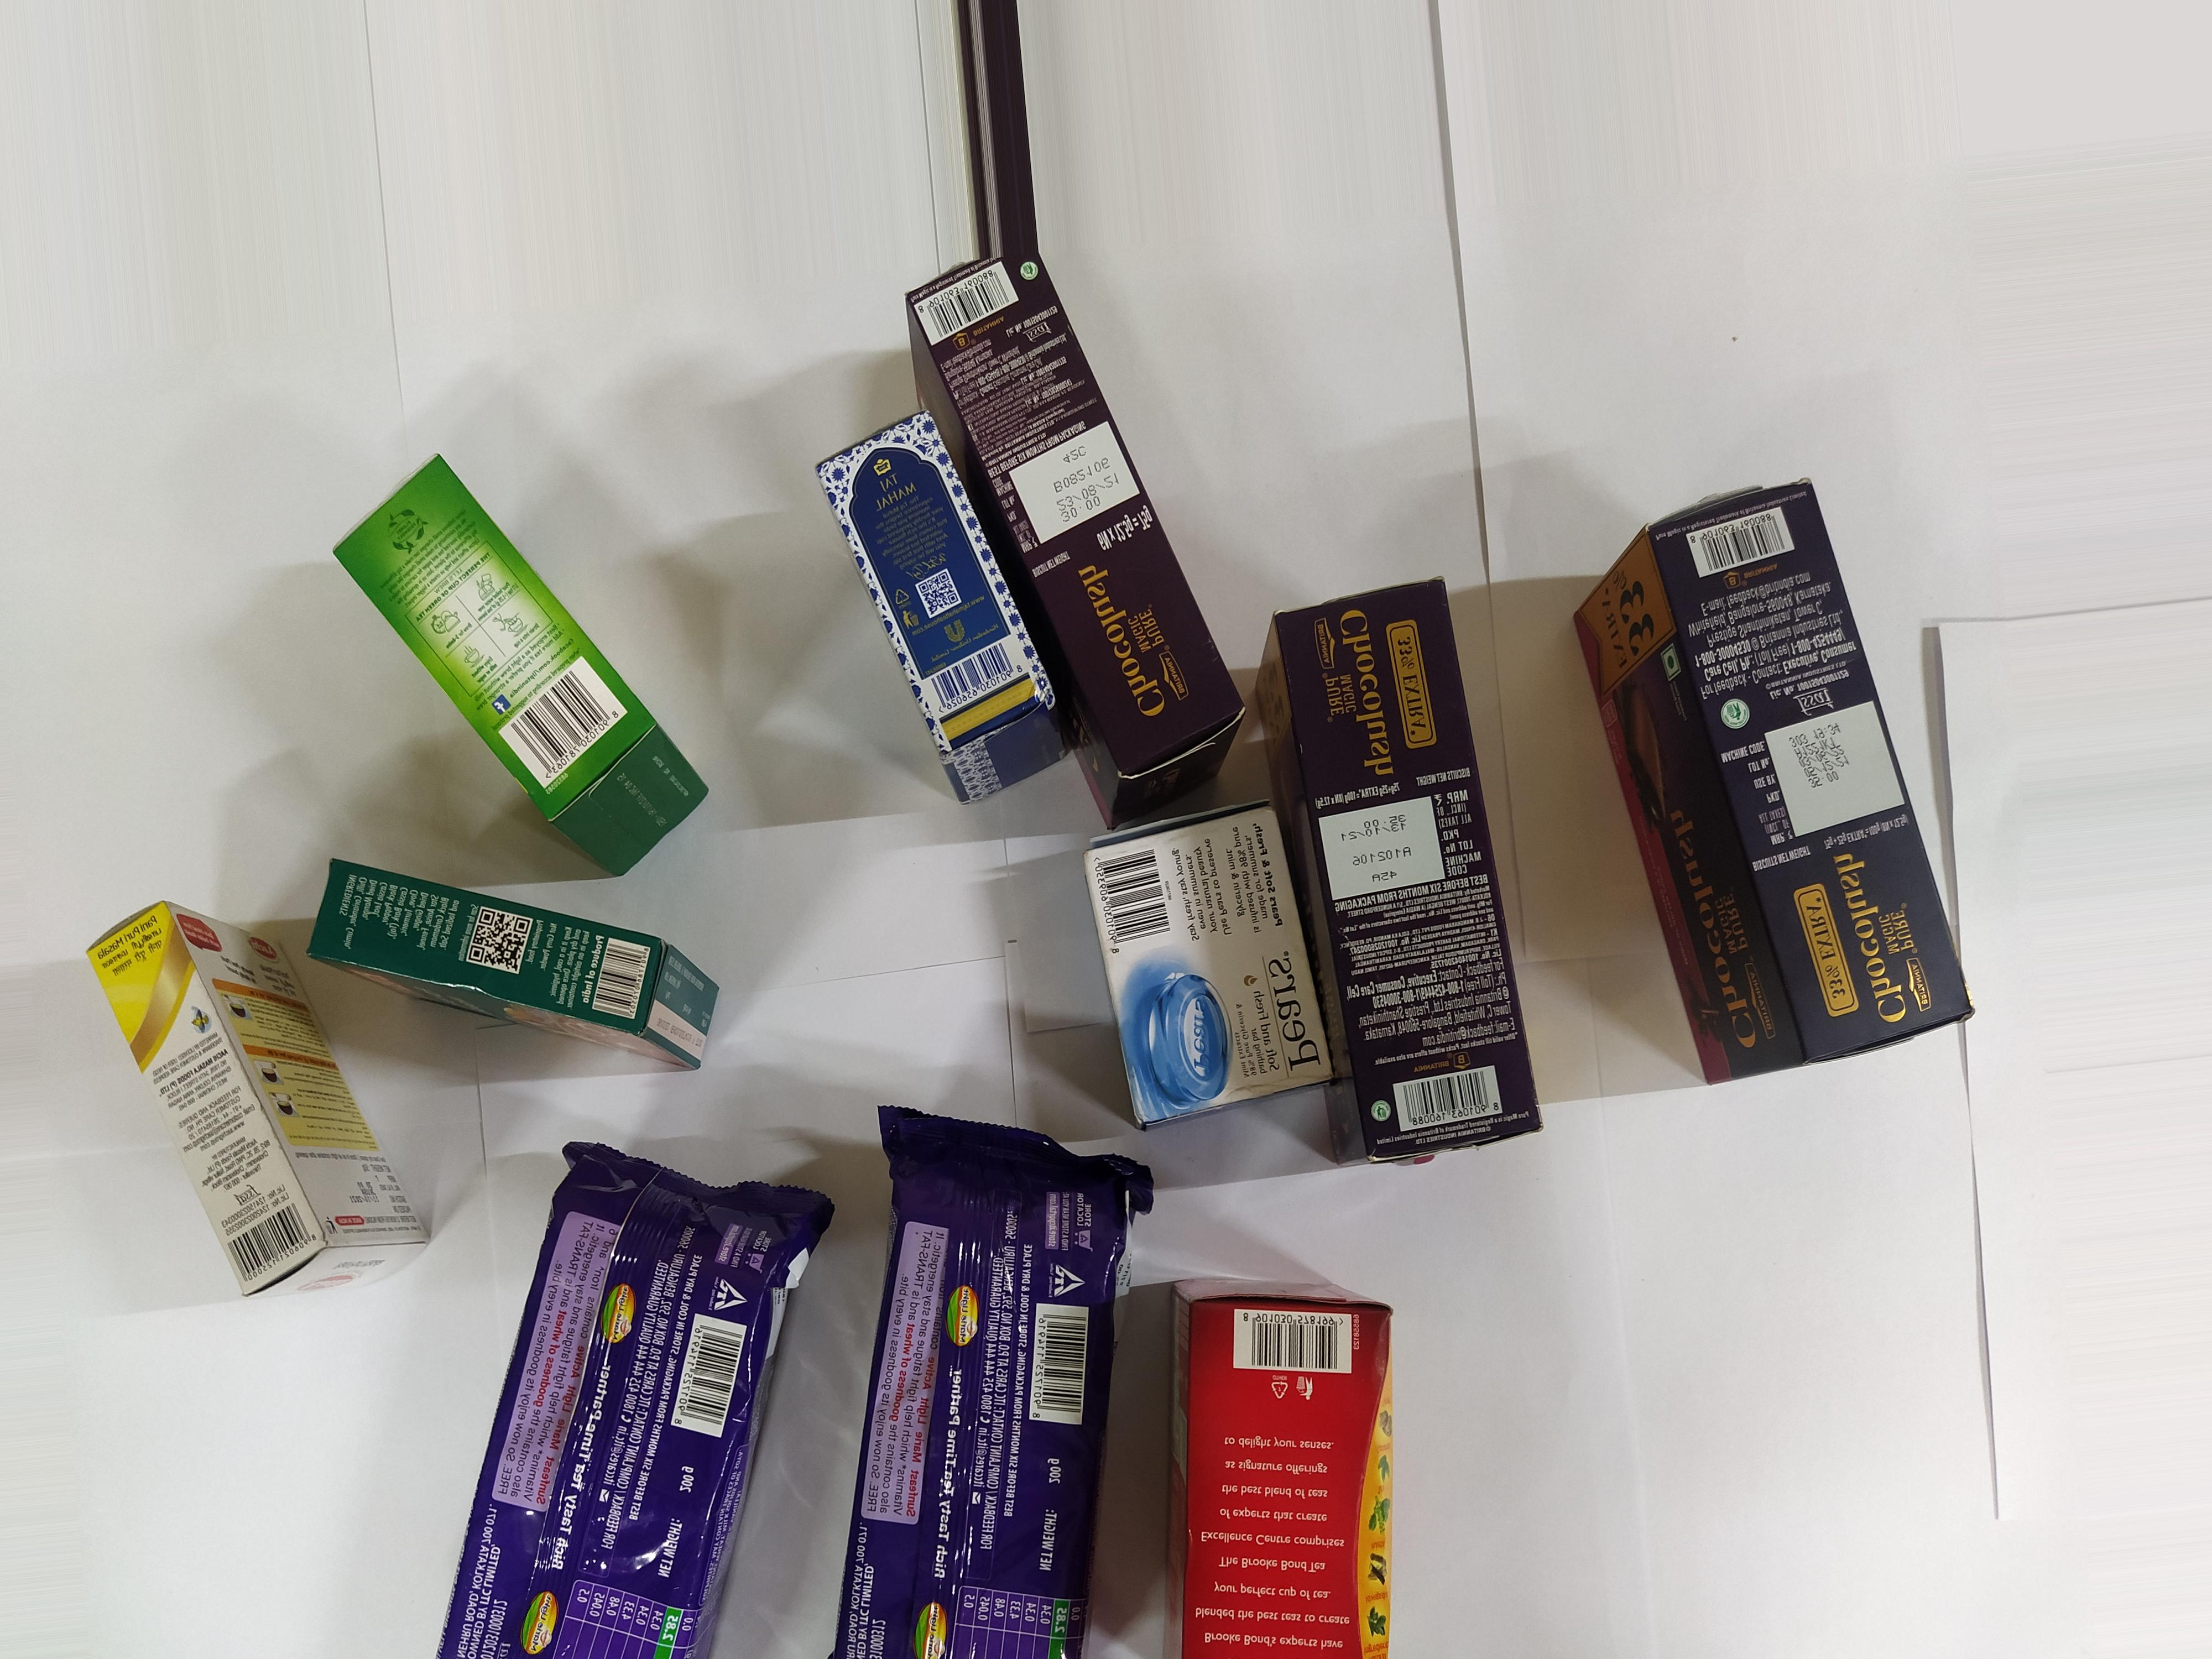Bar_code: (482, 652, 651, 817), (1226, 1295, 1371, 1399), (676, 1305, 765, 1467), (1017, 1291, 1101, 1436), (212, 1201, 334, 1298), (909, 624, 1031, 721), (1672, 498, 1803, 586), (1090, 847, 1181, 967), (1381, 1065, 1522, 1138), (911, 279, 1038, 350), (587, 927, 660, 1033)
Item: (1575, 458, 2074, 1131), (1254, 568, 1599, 1208), (437, 1121, 836, 1659), (275, 450, 775, 877), (883, 254, 1256, 809), (820, 1086, 1146, 1659), (70, 896, 449, 1333), (226, 840, 812, 1079), (775, 401, 1096, 833), (1146, 1262, 1463, 1659), (1061, 805, 1374, 1134)
QR_code: (458, 896, 533, 981)
